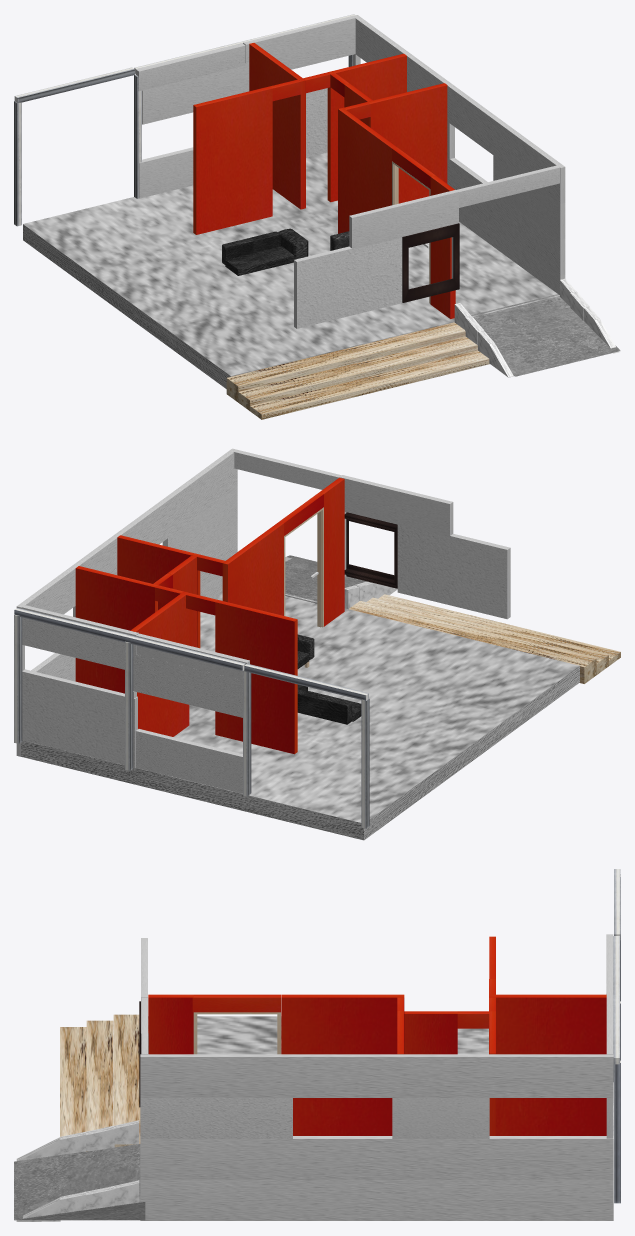
The model's file is casamuros.obj.
3 renders of one model, top to bottom at view 1: azimuth 30°, elevation 25°; view 2: azimuth 150°, elevation 25°; view 3: azimuth 270°, elevation 25°, orthographic. The views are drawn at different scales.
Parts seen in each view (by area): view 1: casamuros:pCube14, casamuros:grouppasted__pasted__pasted__pasted__pasted__pasted__p, polySurface2 casamuros:grouppasted__pasted__pasted__pasted__past, casamuros:pasted__pasted__pCube1pasted__groupgroup2group2pasted_, casamuros:grouppasted__pasted__pasted__pCube1pasted__pasted__gro, casamuros:pasted__pCube1group5, casamuros:pCube15, casamuros:pasted__pasted__pasted__pasted__pCube1pasted__pasted__, casamuros:grouppasted__pasted__pCube1pasted__group13, casamuros:pCube8, casamuros:pCube6, casamuros:pCube7 (+15 smaller); view 2: casamuros:pCube14, casamuros:grouppasted__pasted__pasted__pasted__pasted__pasted__p, polySurface2 casamuros:grouppasted__pasted__pasted__pasted__past, casamuros:pasted__pasted__pCube1pasted__groupgroup2group2pasted_, casamuros:pasted__pCube1group12pasted__pasted__pasted__group2pas, casamuros:group3pasted__pCube1group, casamuros:pasted__pCube1group5, casamuros:grouppasted__pasted__pasted__pCube1pasted__pasted__gro, casamuros:pasted__pasted__pasted__pasted__pCube1pasted__pasted__, casamuros:group3pasted__pCube1, casamuros:group3pasted__pasted__pasted__pCube1pasted__pasted__gr, casamuros:grouppasted__pasted__pCube1pasted__group13 (+15 smaller); view 3: casamuros:pasted__pCube1group5, casamuros:pCube18, casamuros:pCube2group1, casamuros:grouppasted__pasted__pasted__pCube1pasted__pasted__gro, casamuros:grouppasted__pasted__pCube1pasted__group12, casamuros:pasted__pCube1group8, casamuros:pCube15, casamuros:grouppasted__pasted__pCube1pasted__group13, casamuros:pCube14, casamuros:pasted__pCube1group8group18, casamuros:grouppasted__pasted__pasted__pasted__pasted__pasted__p, casamuros:pCube8 (+11 smaller).
Boxes of the visible parts, x1,y1,x2,y2 form: casamuros:pCube14: [23, 152, 559, 388]; casamuros:grouppasted__pasted__pasted__pasted__pasted__pasted__p: [270, 53, 618, 353]; polySurface2 casamuros:grouppasted__pasted__pasted__pasted__past: [193, 86, 272, 234]; casamuros:pasted__pasted__pCube1pasted__groupgroup2group2pasted_: [294, 238, 402, 328]; casamuros:grouppasted__pasted__pasted__pCube1pasted__pasted__gro: [249, 43, 455, 318]; casamuros:pasted__pCube1group5: [353, 15, 565, 203]; casamuros:pCube15: [471, 305, 620, 376]; casamuros:pasted__pasted__pasted__pasted__pCube1pasted__pasted__: [136, 16, 355, 91]; casamuros:grouppasted__pasted__pCube1pasted__group13: [338, 108, 391, 233]; casamuros:pCube8: [226, 322, 465, 402]; casamuros:pCube6: [238, 336, 477, 410]; casamuros:pCube7: [250, 350, 489, 419]; casamuros:pCube14: [21, 593, 579, 840]; casamuros:grouppasted__pasted__pasted__pasted__pasted__pasted__p: [75, 493, 323, 693]; polySurface2 casamuros:grouppasted__pasted__pasted__pasted__past: [215, 600, 297, 754]; casamuros:pasted__pasted__pCube1pasted__groupgroup2group2pasted_: [397, 523, 510, 619]; casamuros:pasted__pCube1group12pasted__pasted__pasted__group2pas: [14, 608, 369, 828]; casamuros:group3pasted__pCube1group: [22, 669, 137, 767]; casamuros:pasted__pCube1group5: [16, 448, 237, 614]; casamuros:grouppasted__pasted__pasted__pCube1pasted__pasted__gro: [130, 477, 344, 736]; casamuros:pasted__pasted__pasted__pasted__pCube1pasted__pasted__: [22, 605, 249, 680]; casamuros:group3pasted__pCube1: [135, 729, 242, 793]; casamuros:group3pasted__pasted__pasted__pCube1pasted__pasted__gr: [133, 654, 242, 717]; casamuros:grouppasted__pasted__pCube1pasted__group13: [222, 522, 283, 615]; casamuros:pasted__pCube1group5: [140, 1054, 613, 1097]; casamuros:pCube18: [140, 1136, 613, 1179]; casamuros:pCube2group1: [140, 1180, 613, 1220]; casamuros:grouppasted__pasted__pasted__pCube1pasted__pasted__gro: [148, 994, 606, 1135]; casamuros:grouppasted__pasted__pCube1pasted__group12: [281, 994, 398, 1135]; casamuros:pasted__pCube1group8: [140, 1098, 292, 1138]; casamuros:pCube15: [14, 1144, 145, 1220]; casamuros:grouppasted__pasted__pCube1pasted__group13: [282, 994, 404, 1135]; casamuros:pCube14: [148, 1016, 613, 1135]; casamuros:pasted__pCube1group8group18: [392, 1098, 489, 1138]; casamuros:grouppasted__pasted__pasted__pasted__pasted__pasted__p: [16, 979, 495, 1221]; casamuros:pCube8: [113, 1014, 140, 1147].
Size of what is drawn, in the model's own units: 9.89 by 4.05 by 13.41.
